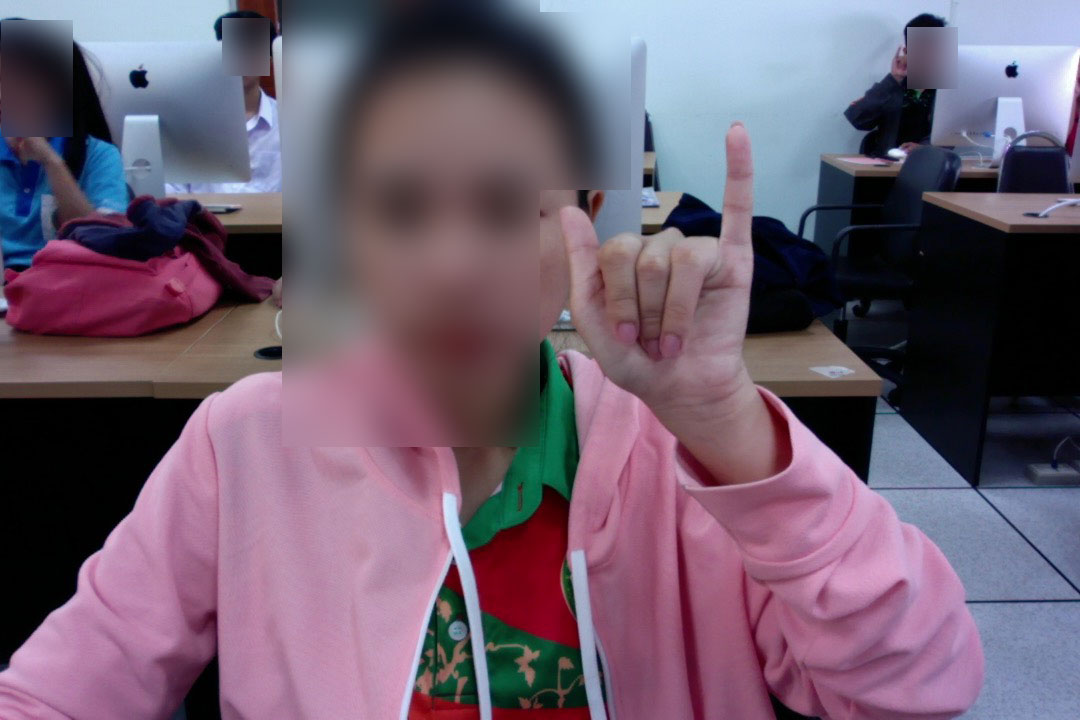yor: (554, 120, 777, 411)
